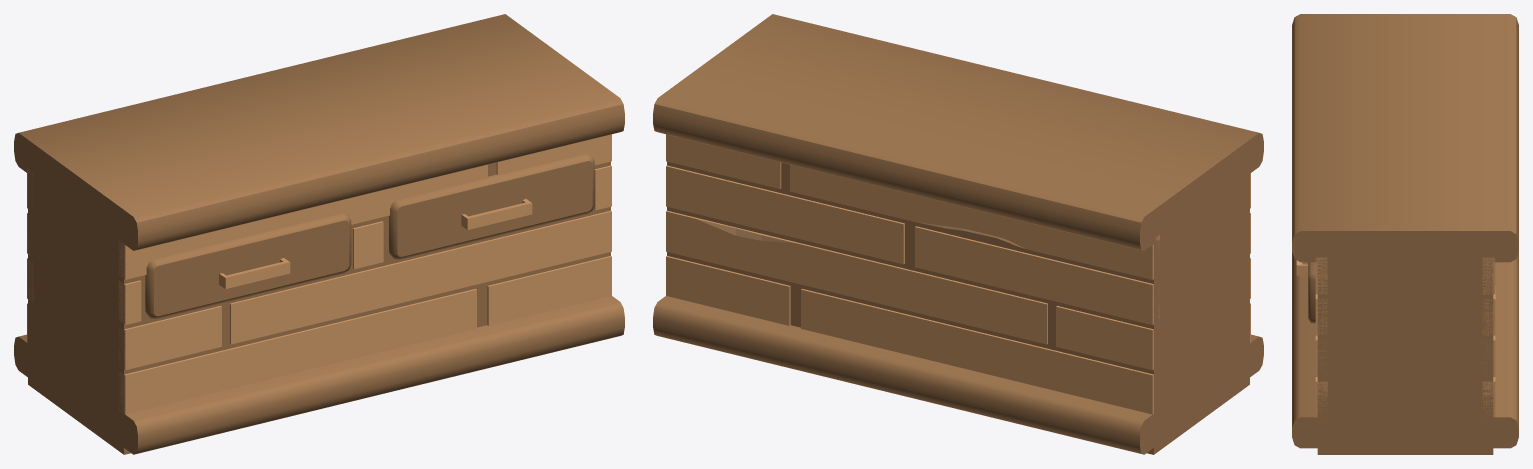
Rendered from quaternius-sushi-restaurant-environment-counter-drawers.glb.
3 renders of one model, left to right at view 1: azimuth 30°, elevation 25°; view 2: azimuth 150°, elevation 25°; view 3: azimuth 270°, elevation 25°, orthographic. The views are drawn at different scales.
Visible parts, largest first — view 1: Environment_Counter_Drawers; view 2: Environment_Counter_Drawers; view 3: Environment_Counter_Drawers.
Part boxes in pixels (x1,y1,x2,y2): Environment_Counter_Drawers: (14,14,624,454); Environment_Counter_Drawers: (653,14,1263,454); Environment_Counter_Drawers: (1292,14,1518,454).
Size of the model in its own units: 4 by 1.92 by 1.77.
Materials: 1 (1 with a texture image).
